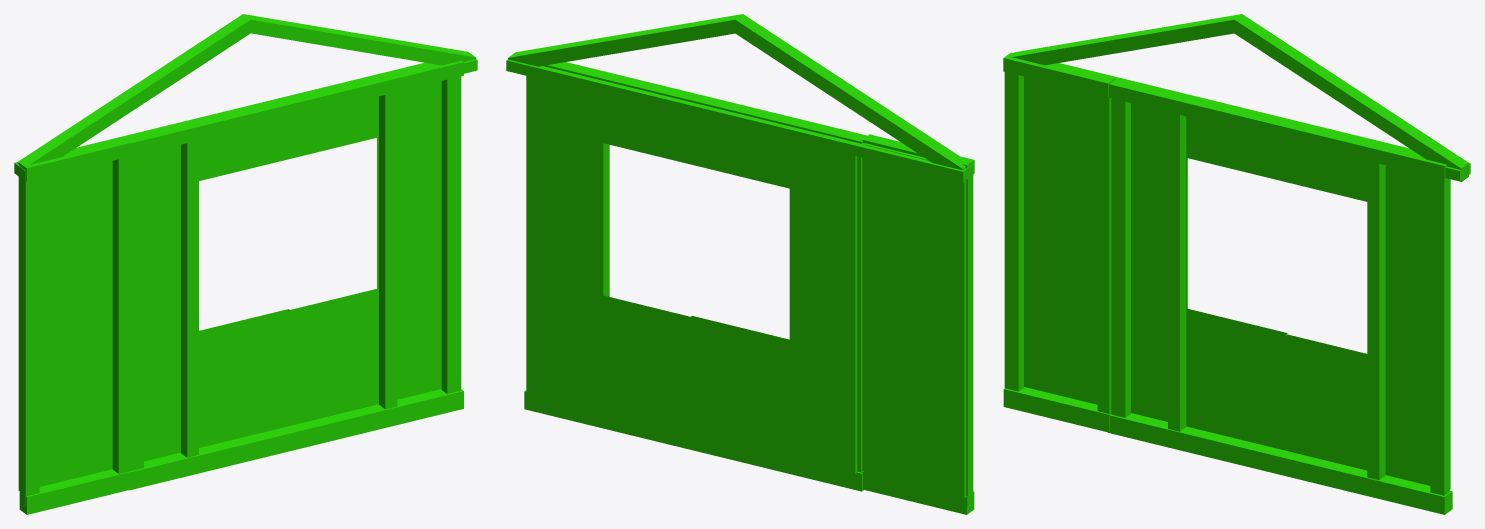
File: HT_02_Wall_02.fbx
The picture shows the model from 3 angles, left to right: view 1: azimuth 30°, elevation 25°; view 2: azimuth 150°, elevation 25°; view 3: azimuth 330°, elevation 25°; orthographic projection.
Visible parts, largest first — view 1: HT_02_Wall_02; view 2: HT_02_Wall_02; view 3: HT_02_Wall_02.
Boxes of the visible parts, bbox=[...] form: HT_02_Wall_02: bbox=[14, 14, 477, 514]; HT_02_Wall_02: bbox=[506, 14, 974, 514]; HT_02_Wall_02: bbox=[1003, 14, 1470, 514].
Bounding box in the file's own units: 407 × 377 × 18.46.
